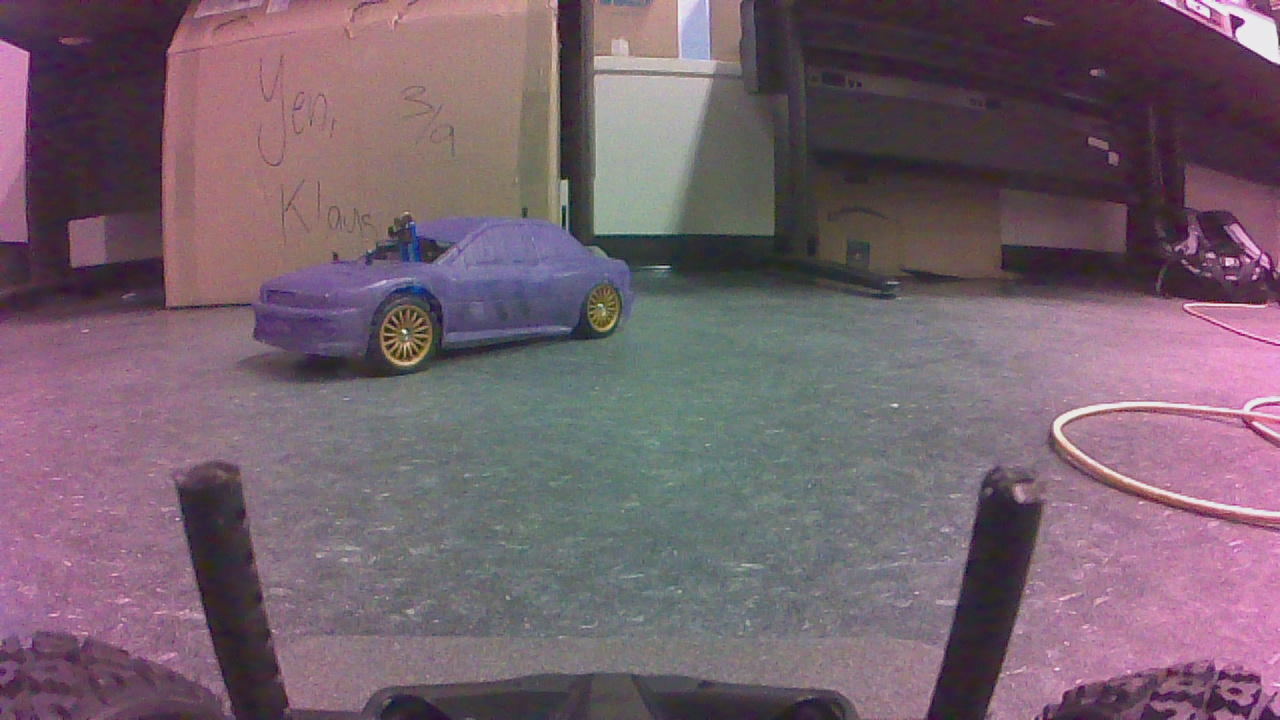opponent: (243, 224, 641, 378)
